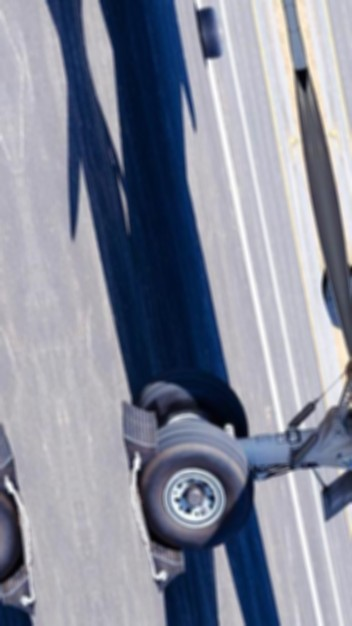chock: (115, 394, 168, 473), (143, 521, 191, 596), (0, 549, 39, 624), (0, 420, 21, 500)
wheel: (129, 415, 262, 557), (129, 355, 252, 456), (195, 5, 221, 34), (200, 31, 226, 60)
